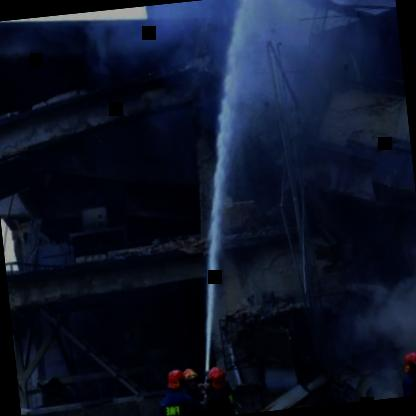helmet: (180, 364, 204, 396), (161, 364, 186, 394), (205, 363, 230, 392), (397, 345, 416, 378)
